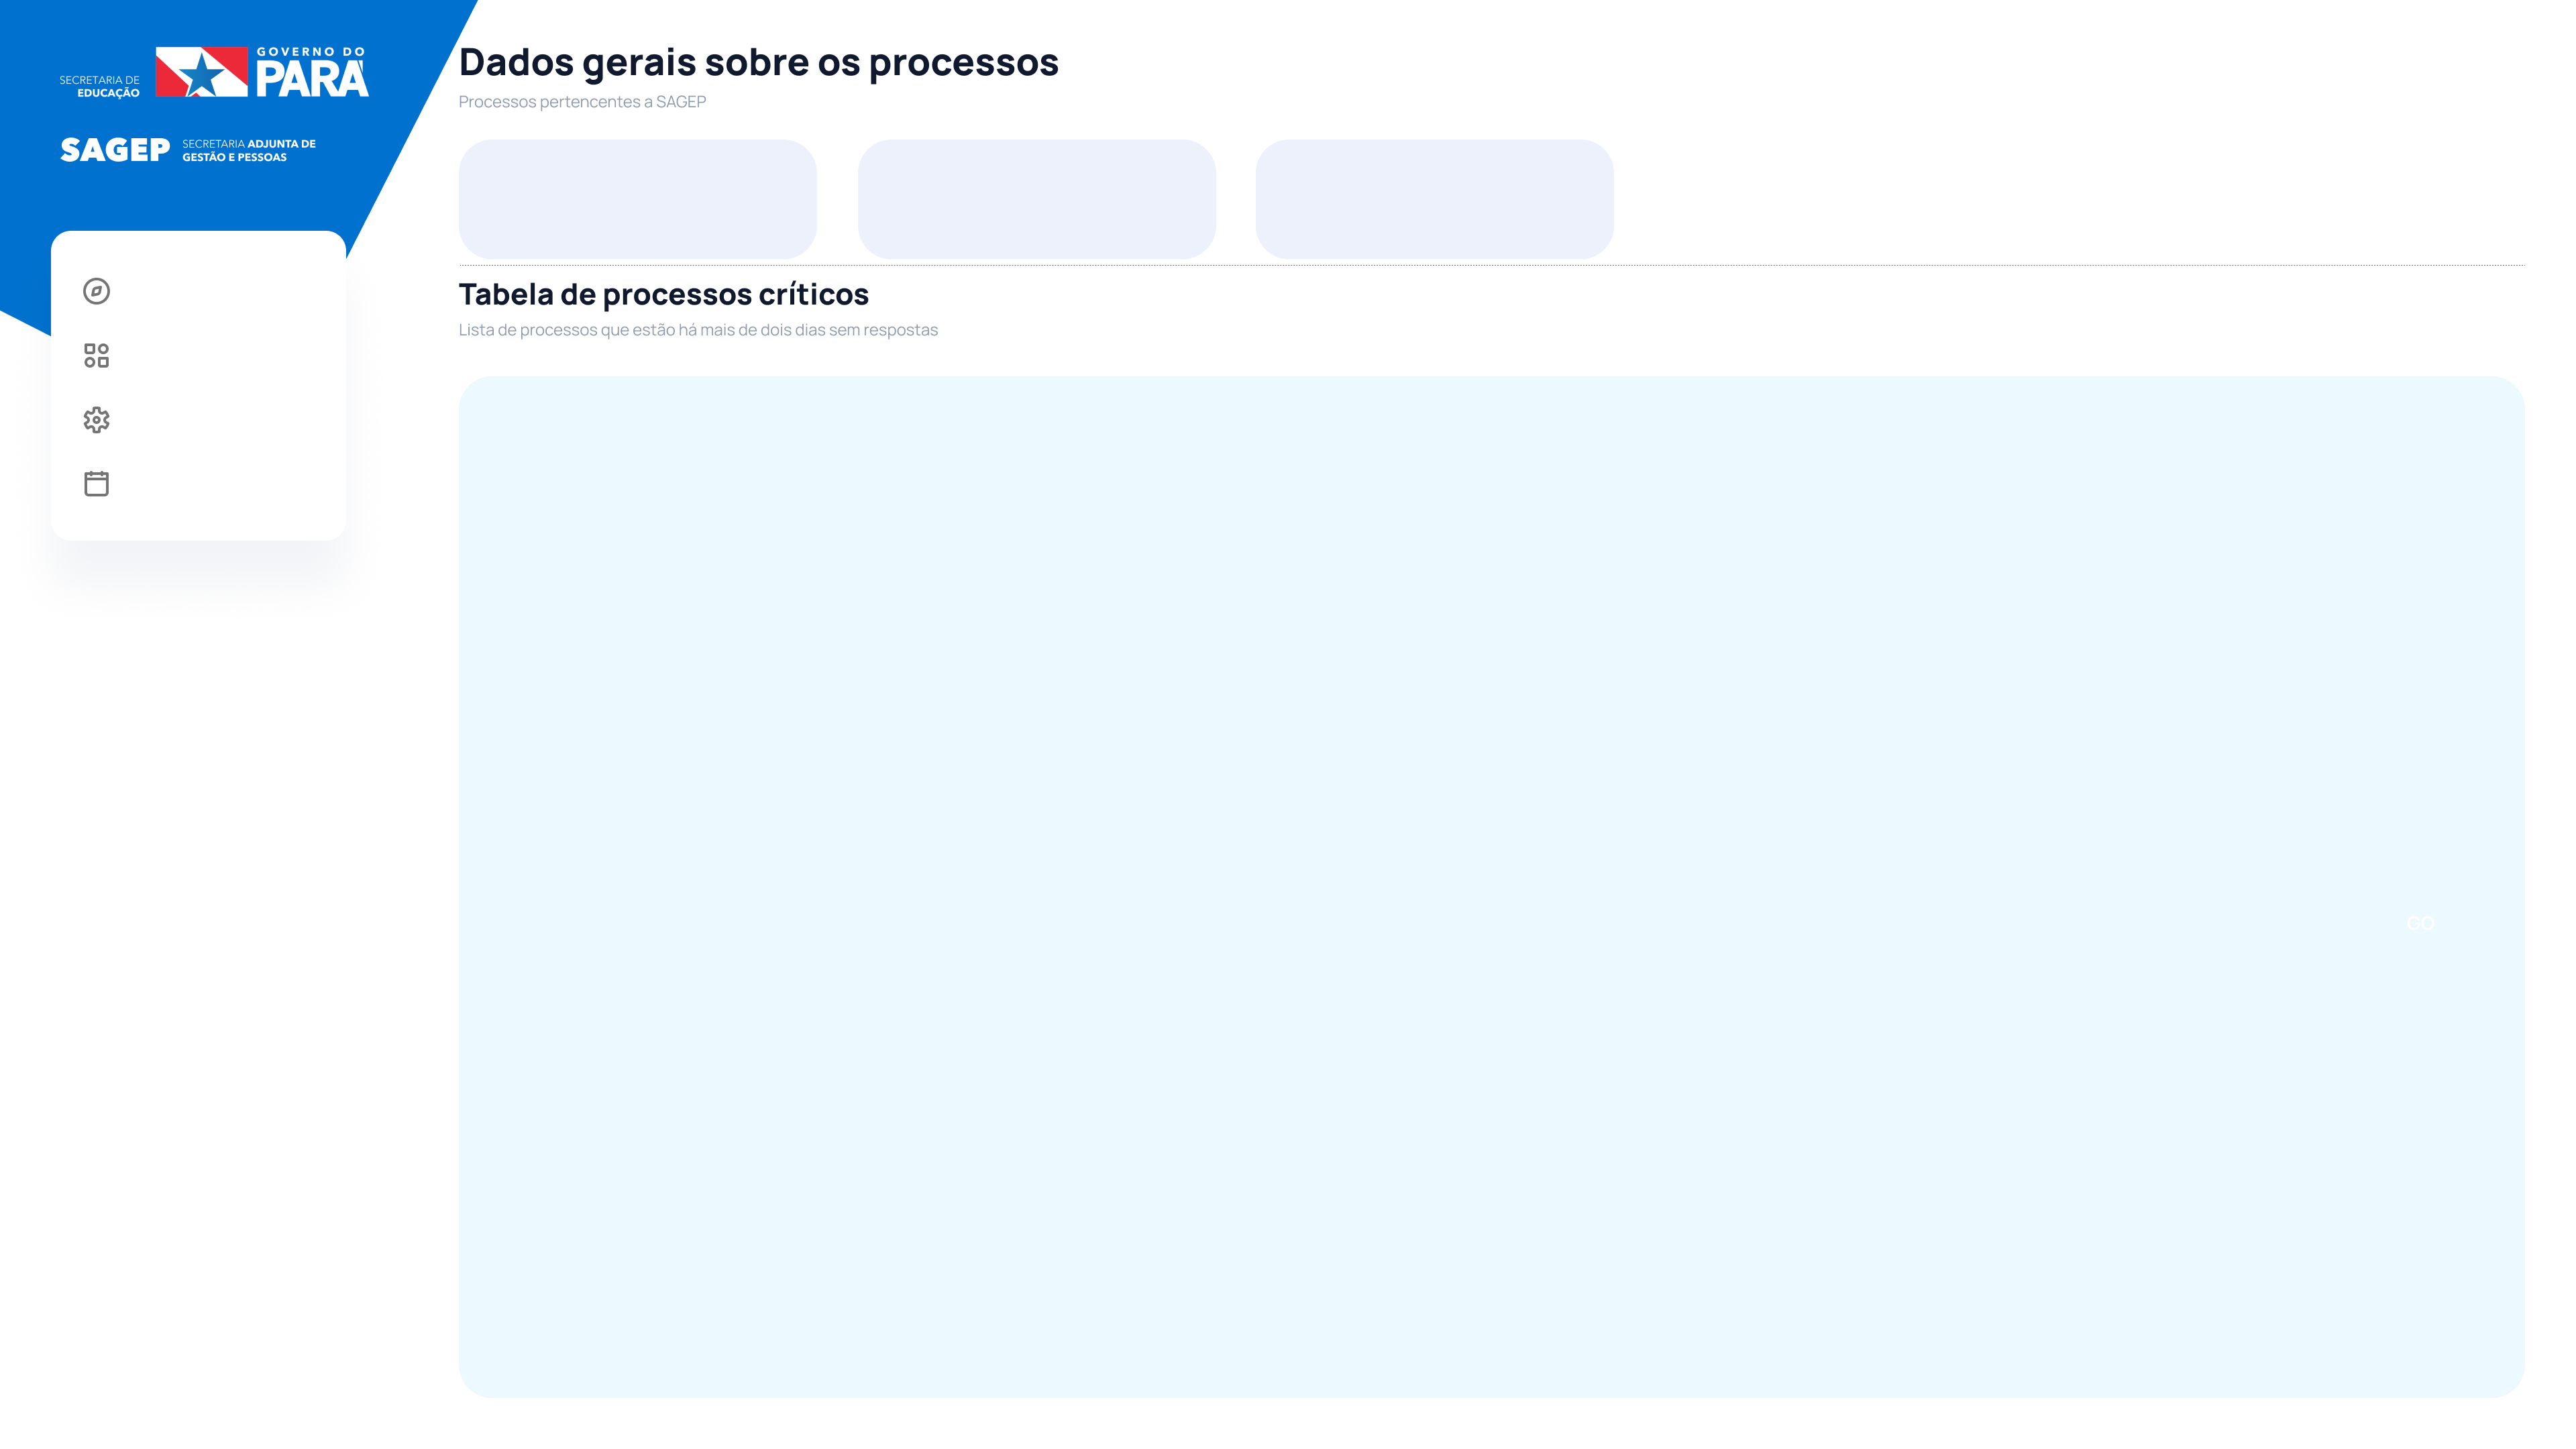

The page's visual inventory and layout, read from the dashboard file:
{"tool":"powerbi","page":{"name":"Tabela Críticos","canvas":[1280,720],"ordinal":2},"visuals":[{"type":"tableEx","fields":{"Values":["Críticos.N° Protocolo","Críticos.Destino","Críticos.Tempo parado"]},"box":[238.8,191.8,1005.8,487.2],"z":0},{"type":"textFilter25A4896A83E0487089E2B90C9AE57C8A","fields":{"field":["Críticos.N° Protocolo"]},"box":[816.5,76,436.6,50.7],"z":1},{"type":"card","fields":{"Values":["Tramitações.Tempo de resposta"]},"box":[304.3,68.6,91.4,62.9],"z":2},{"type":"card","fields":{"Values":["Tramitações.Tempo parado"]},"box":[511.4,77.1,70,47.1],"z":3},{"type":"card","fields":{"Values":["Tramitações.N° Protocolo"]},"box":[681.4,72.9,90,51.4],"z":4},{"type":"image","box":[50.3,134.7,64,22],"z":5},{"type":"image","box":[60.3,166.5,82.6,24.8],"z":6},{"type":"image","box":[60.4,198.5,59.2,21.9],"z":7}]}

Visuals, with their boxes on the page's 1280x720 design canvas (x1, y1, x2, y2). These are canvas units, not pixel positions in the 2576x1449 screenshot, which may show the page scaled, cropped or inside an application window:
tableEx - Críticos.N° Protocolo x Críticos.Destino: <box>239,192,1245,679</box>
textFilter25A4896A83E0487089E2B90C9AE57C8A - Críticos.N° Protocolo: <box>816,76,1253,127</box>
card - Tramitações.Tempo de resposta: <box>304,69,396,132</box>
card - Tramitações.Tempo parado: <box>511,77,581,124</box>
card - Tramitações.N° Protocolo: <box>681,73,771,124</box>
image: <box>50,135,114,157</box>
image: <box>60,166,143,191</box>
image: <box>60,198,120,220</box>
